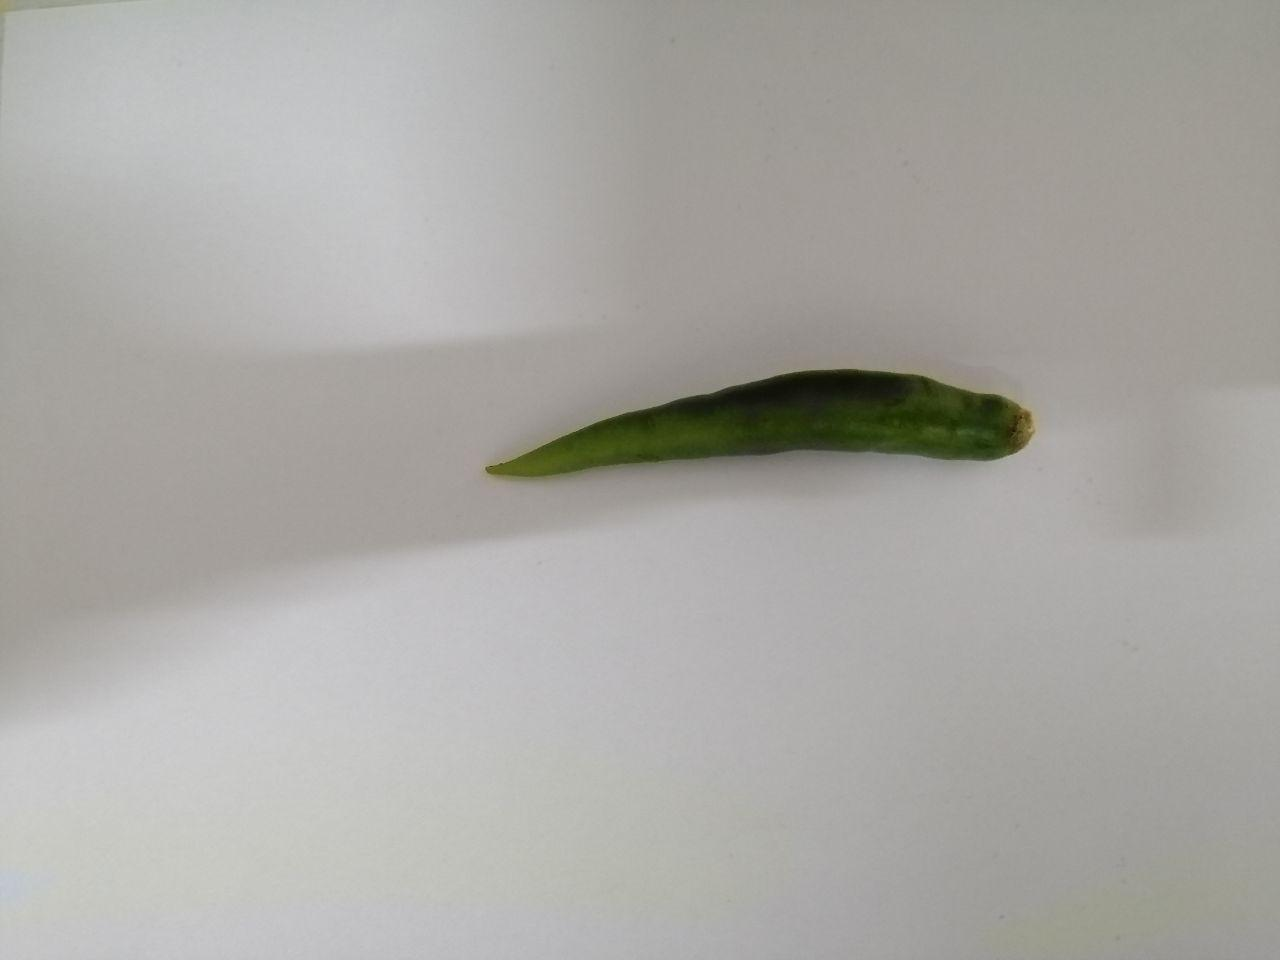lada hijau: (466, 340, 1056, 537)
